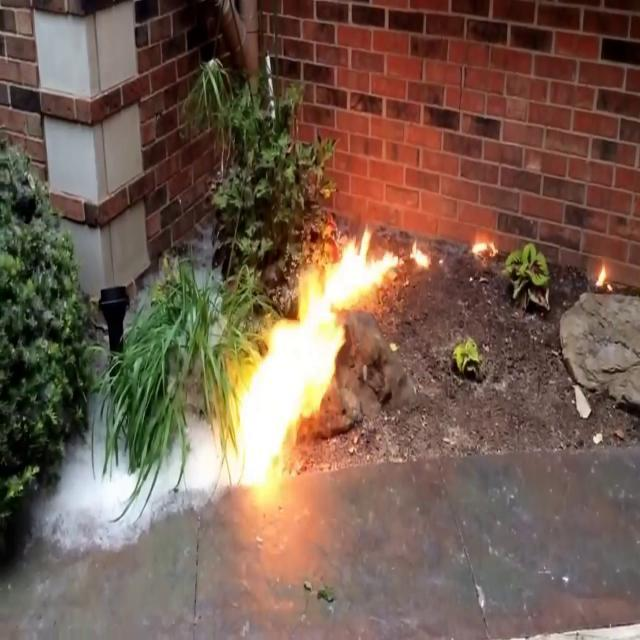Fire: (226, 212, 412, 497), (592, 254, 614, 294)
